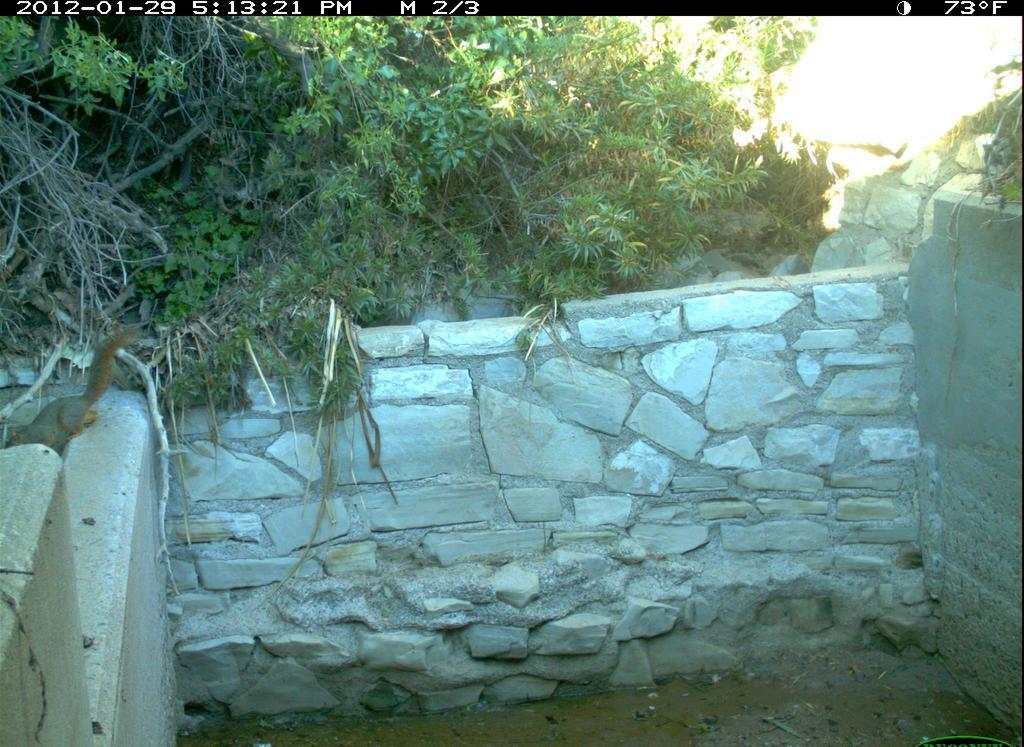squirrel: (9, 331, 145, 456)
